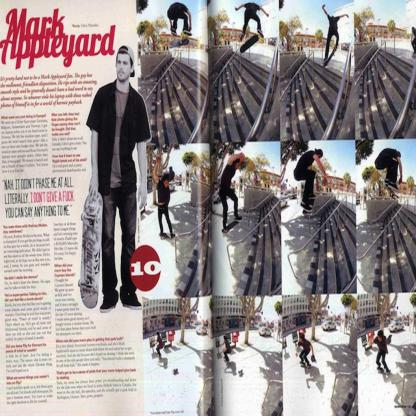face: (118, 54, 132, 82), (165, 180, 170, 189), (236, 164, 241, 170), (379, 337, 383, 343), (300, 337, 303, 343), (318, 155, 322, 159)
